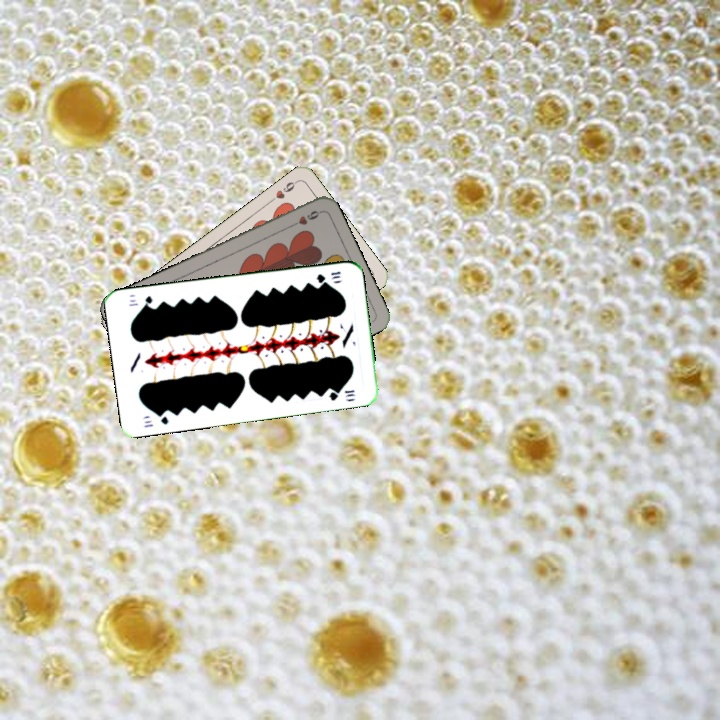G10: (139, 408, 171, 430), (313, 267, 343, 285)
H9: (265, 177, 300, 205), (285, 206, 324, 230)
